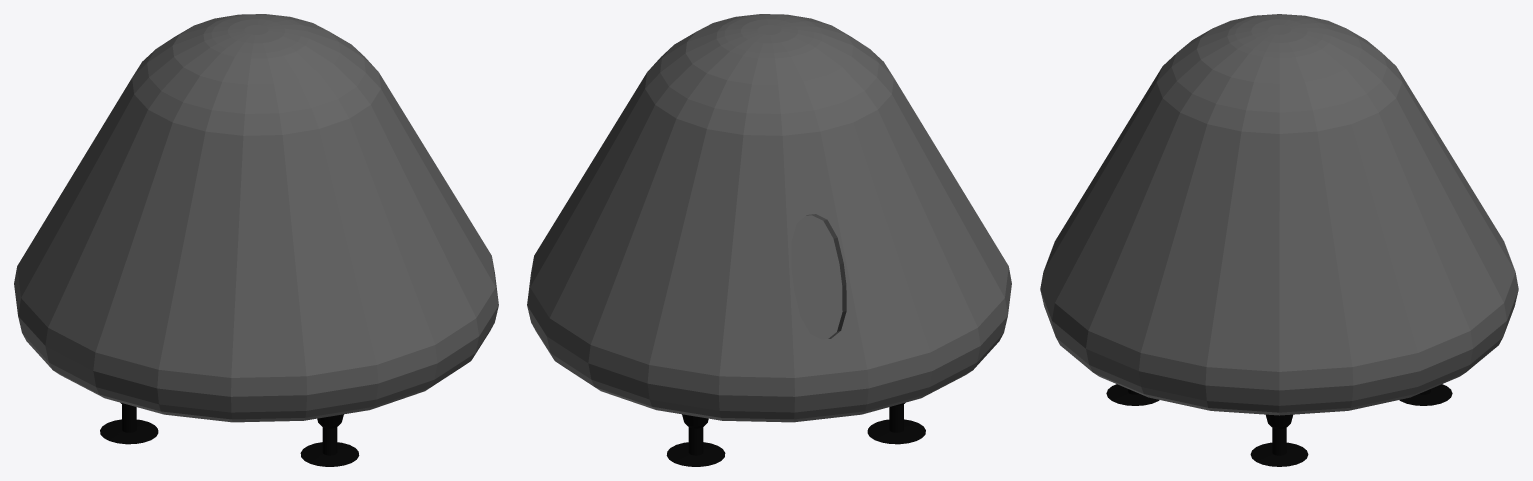
File: commandmodule.fbx
3 views of the same model, side by side, from view 1: azimuth 30°, elevation 25°; view 2: azimuth 150°, elevation 25°; view 3: azimuth 270°, elevation 25° (orthographic).
Parts seen in each view (by area): view 1: Cube.002; view 2: Cube.002; view 3: Cube.002.
Boxes of the visible parts, x1,y1,x2,y2 form: Cube.002: (14,14,498,466); Cube.002: (527,14,1011,466); Cube.002: (1040,14,1518,466).
Bounding box in the file's own units: 790 × 663 × 790.
